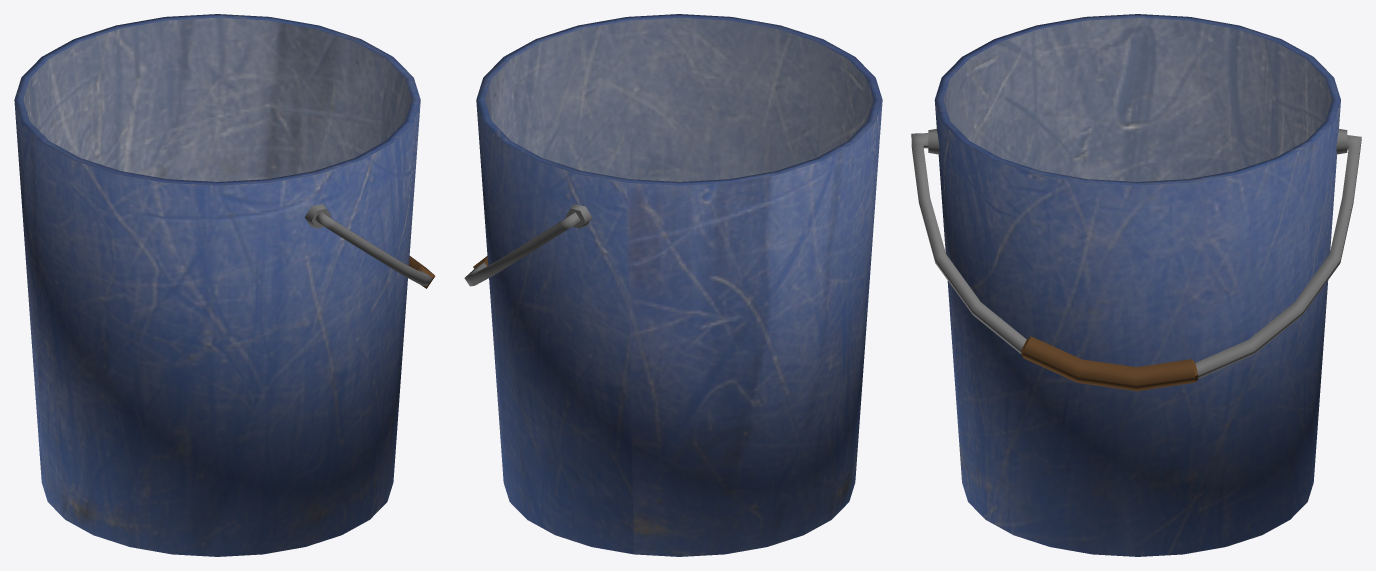
The model's file is basket.FBX.
The picture shows the model from 3 angles, left to right: view 1: azimuth 30°, elevation 25°; view 2: azimuth 150°, elevation 25°; view 3: azimuth 270°, elevation 25°; orthographic projection.
Parts seen in each view (by area): view 1: basket; view 2: basket; view 3: basket.
Part boxes in pixels (box(x1,y1,x2,y2)): basket: box(14, 14, 435, 556); basket: box(464, 14, 882, 556); basket: box(911, 14, 1361, 556).
Bounding box in the file's own units: 40.95 × 41.58 × 44.3.
